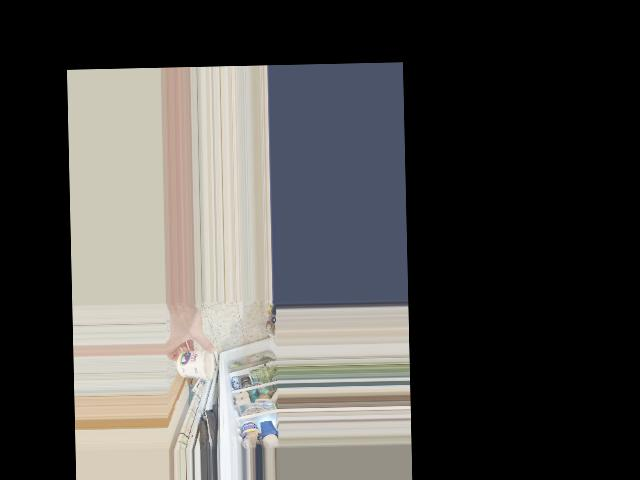cotage: (175, 349, 207, 374)
